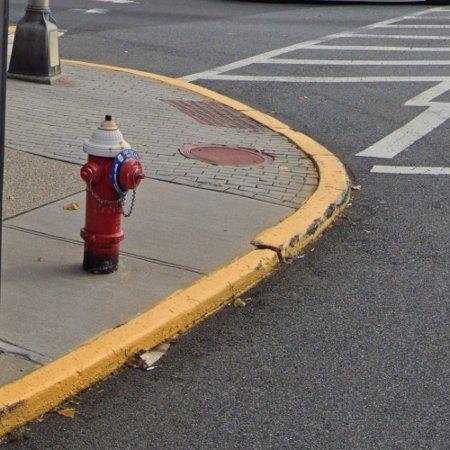a fire hydrant: (80, 115, 145, 274)
